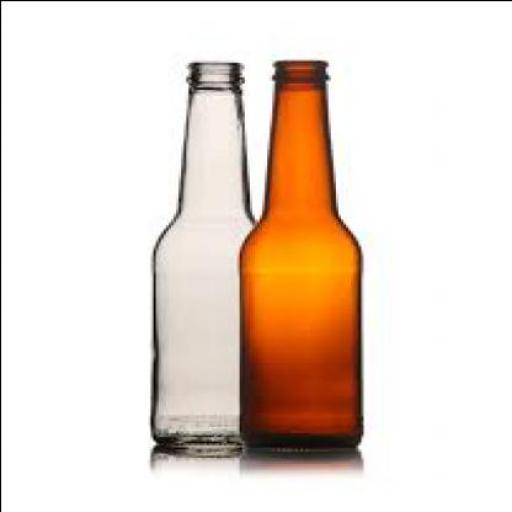glass: (238, 55, 363, 448), (152, 60, 257, 446)
